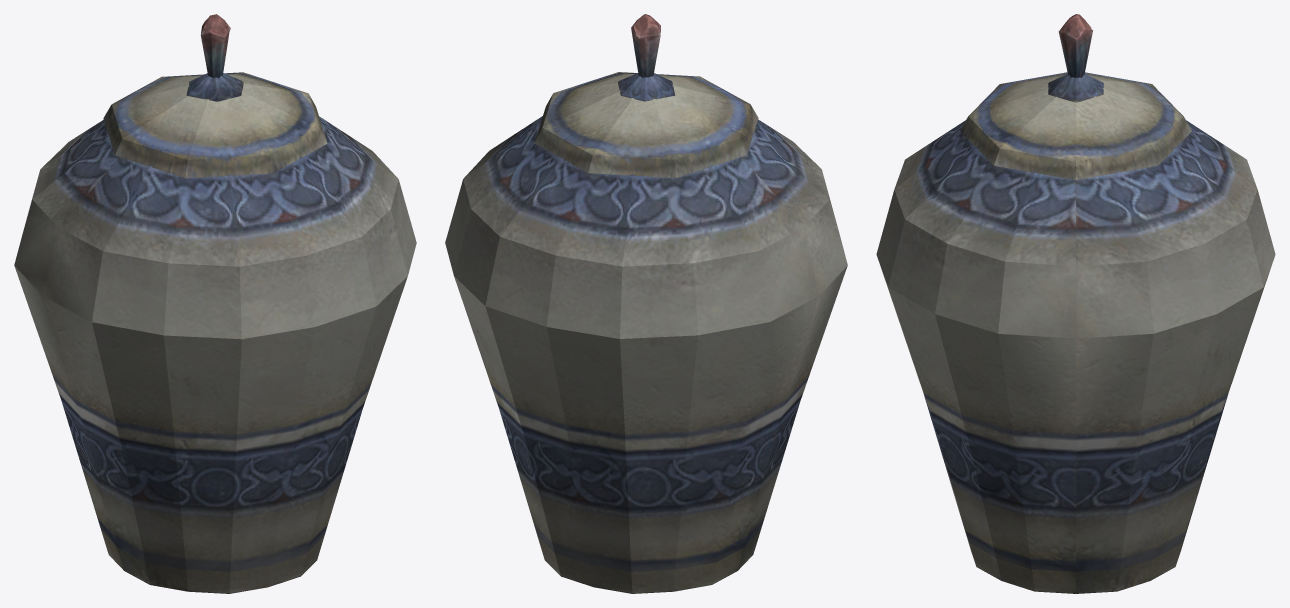
Rendered from bg_anh_etc_pot01_04_sm_old.FBX.
3 renders of one model, left to right at view 1: azimuth 30°, elevation 25°; view 2: azimuth 150°, elevation 25°; view 3: azimuth 270°, elevation 25°, orthographic.
Visible parts, largest first — view 1: bg_anh_etc_pot01_04_sm_old; view 2: bg_anh_etc_pot01_04_sm_old; view 3: bg_anh_etc_pot01_04_sm_old.
Part boxes in pixels (box(x1,y1,x2,y2)): bg_anh_etc_pot01_04_sm_old: box(14, 14, 416, 593); bg_anh_etc_pot01_04_sm_old: box(445, 14, 847, 593); bg_anh_etc_pot01_04_sm_old: box(876, 14, 1275, 593).
Bounding box in the file's own units: 100 × 149 × 100.
